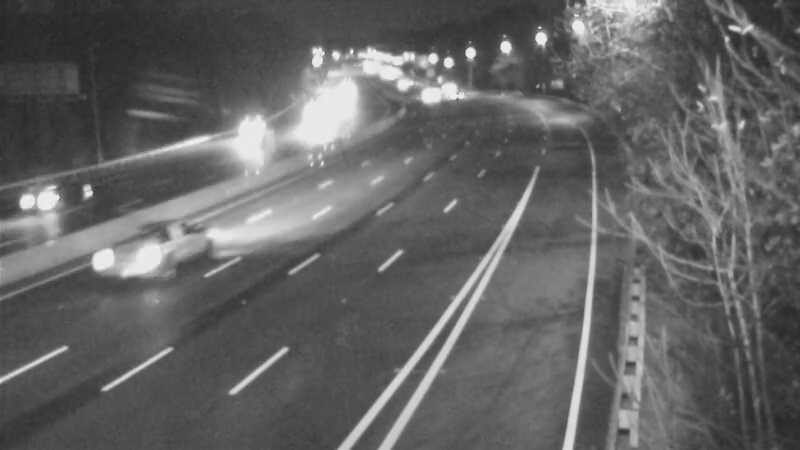vehicle: (104, 218, 184, 298), (2, 158, 82, 238), (430, 62, 480, 112), (405, 72, 455, 122), (226, 118, 276, 168), (288, 104, 338, 154)
